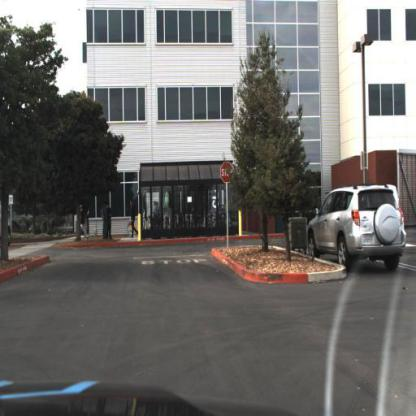car: (308, 182, 409, 274), (306, 182, 409, 272)
pedestrian: (78, 204, 90, 242), (129, 199, 138, 240), (103, 201, 111, 241), (102, 203, 108, 239), (107, 206, 113, 239), (107, 203, 111, 239)
